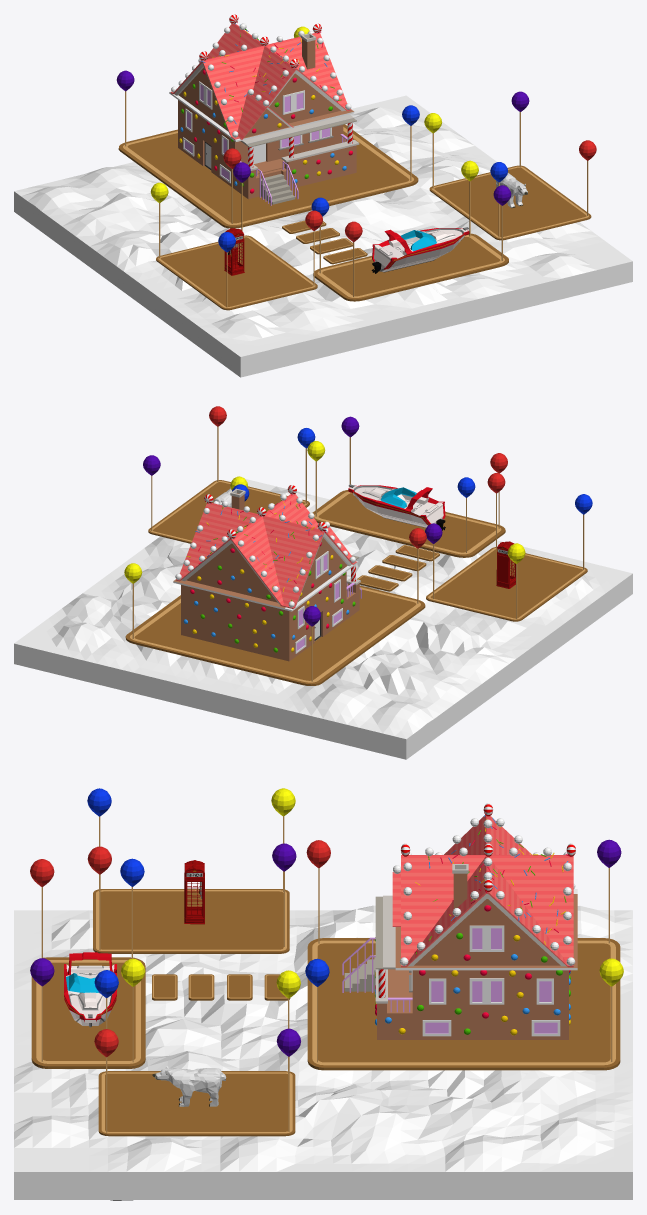
The picture shows the model from 3 angles, top to bottom: view 1: azimuth 30°, elevation 25°; view 2: azimuth 150°, elevation 25°; view 3: azimuth 270°, elevation 25°; orthographic projection. The views are drawn at different scales.
Parts seen in each view (by area): view 1: Cube.013, Cube.1203, VEHICLES_BOAT, OBJRANDOM_PHONEBOOTH, ANIMAL_OSO_POLAR; view 2: Cube.013, Cube.1203, VEHICLES_BOAT, OBJRANDOM_PHONEBOOTH; view 3: Cube.013, Cube.1203, VEHICLES_BOAT, ANIMAL_OSO_POLAR, OBJRANDOM_PHONEBOOTH.
Part boxes in pixels (x1,y1,x2,y2): Cube.013: (14, 26, 632, 377); Cube.1203: (169, 14, 359, 205); VEHICLES_BOAT: (371, 227, 469, 273); OBJRANDOM_PHONEBOOTH: (224, 228, 244, 275); ANIMAL_OSO_POLAR: (496, 173, 527, 208); Cube.013: (14, 406, 632, 759); Cube.1203: (173, 485, 361, 661); VEHICLES_BOAT: (348, 484, 445, 530); OBJRANDOM_PHONEBOOTH: (496, 541, 515, 588); Cube.013: (14, 788, 632, 1199); Cube.1203: (342, 803, 577, 1039); VEHICLES_BOAT: (64, 952, 116, 1027); ANIMAL_OSO_POLAR: (152, 1065, 226, 1106); OBJRANDOM_PHONEBOOTH: (184, 860, 204, 924).
Bounding box in the file's own units: 4000 × 1662 × 4000.
Materials: 44 (2 with a texture image).
